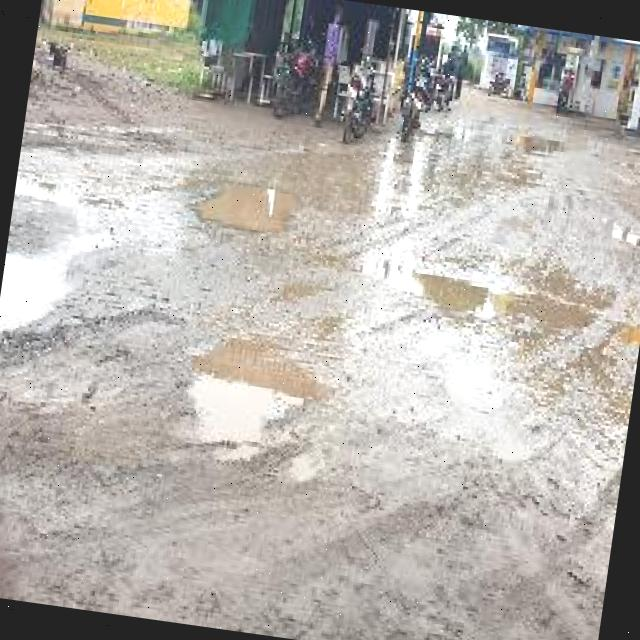waterlogging: (171, 328, 344, 483), (390, 253, 584, 339), (190, 160, 304, 242)
